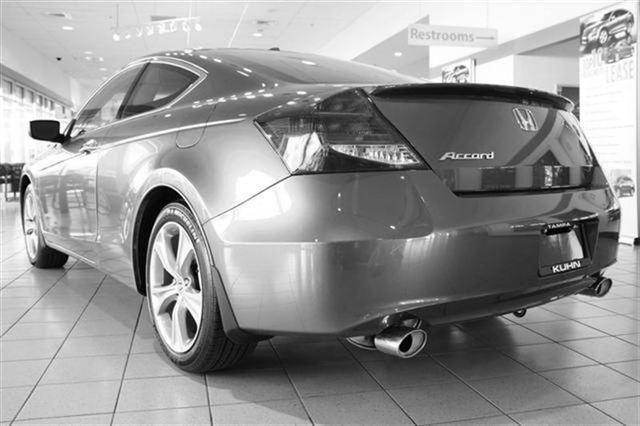car: (21, 47, 620, 374)
